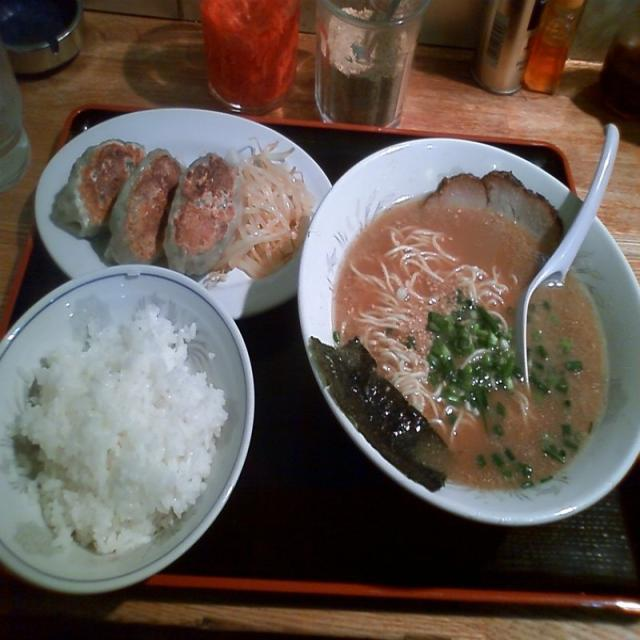Rice: (0, 266, 258, 593)
